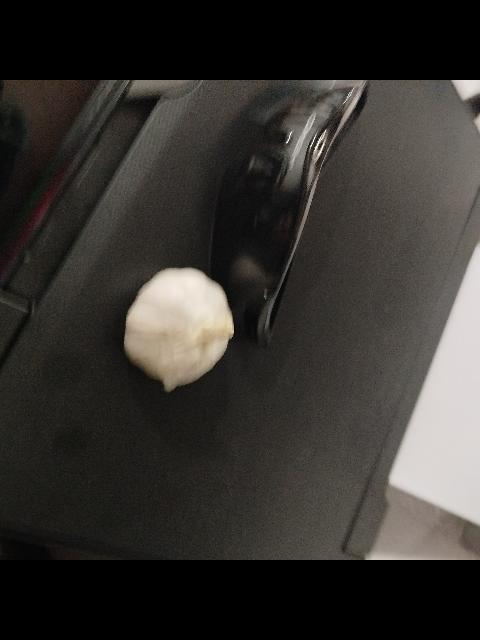garlic: (123, 266, 234, 392)
